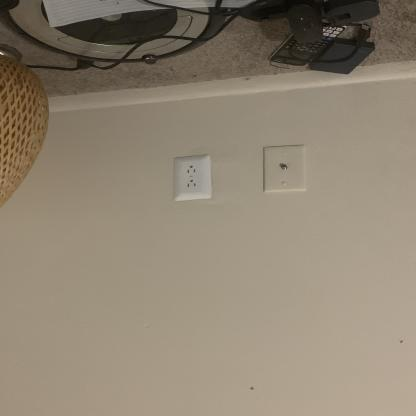OUTLET: (174, 156, 211, 202)
